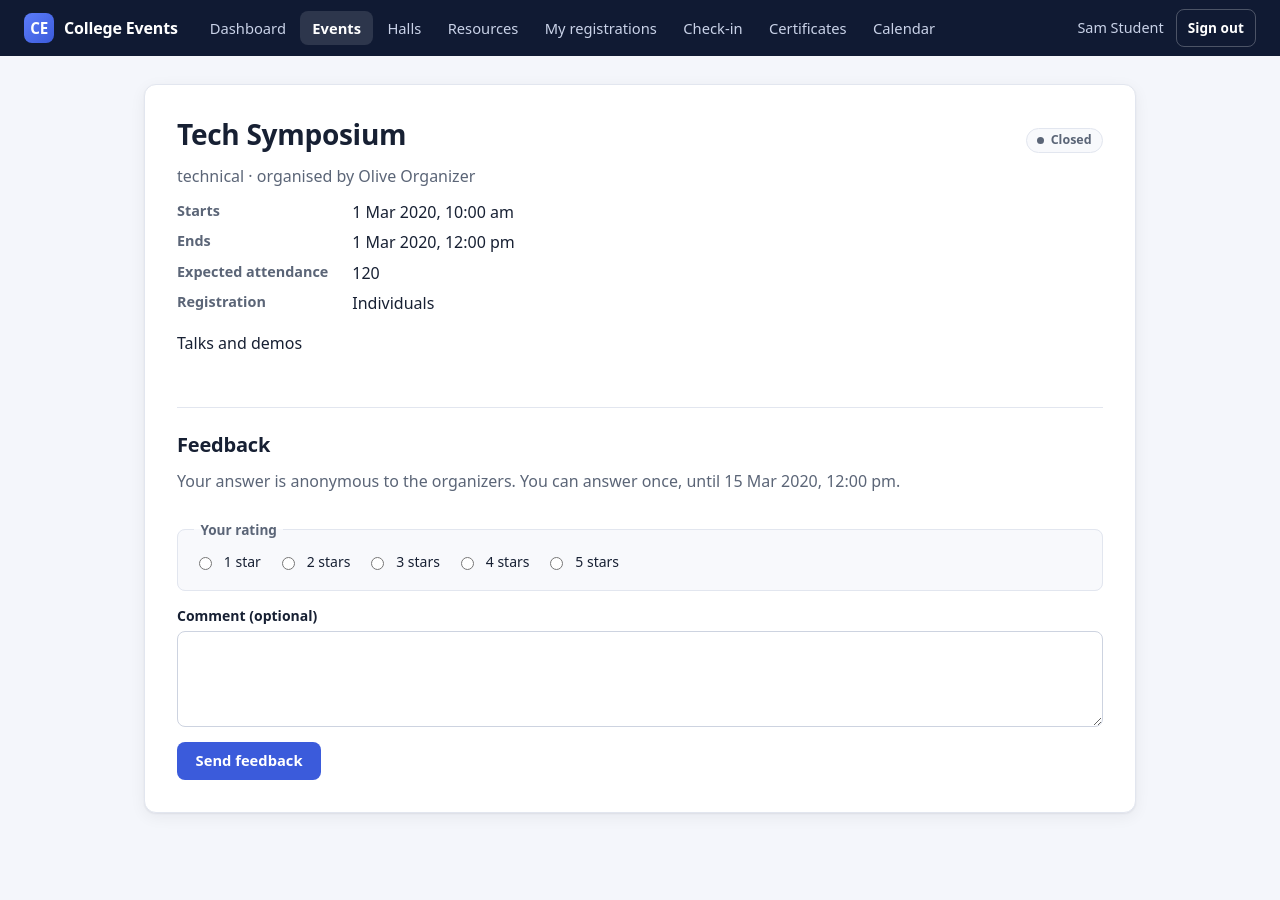
giving feedback › asks for a rating before sending anything
Click the button "Send feedback" at (249, 761), box [177,742,321,780]
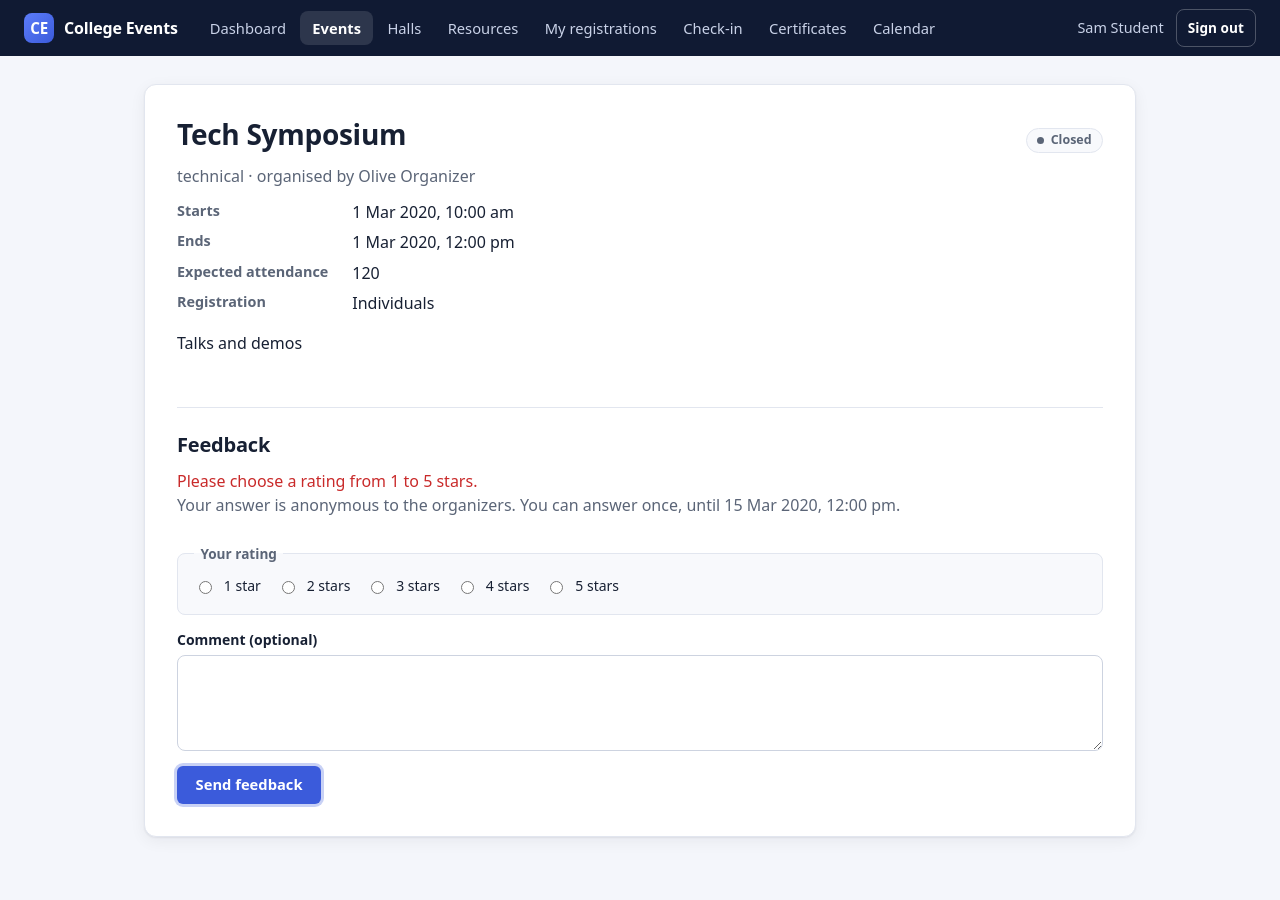
Now the message shows "choose a rating", box [177,470,477,492]
